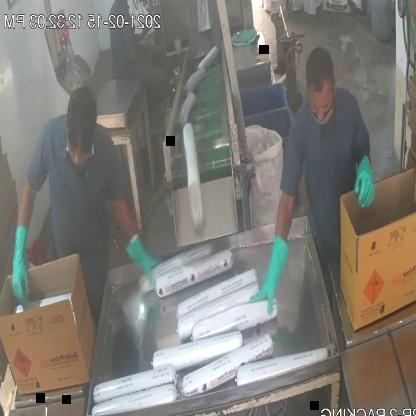glove: (247, 207, 296, 326), (348, 133, 382, 224), (7, 199, 32, 316), (121, 236, 167, 294)
